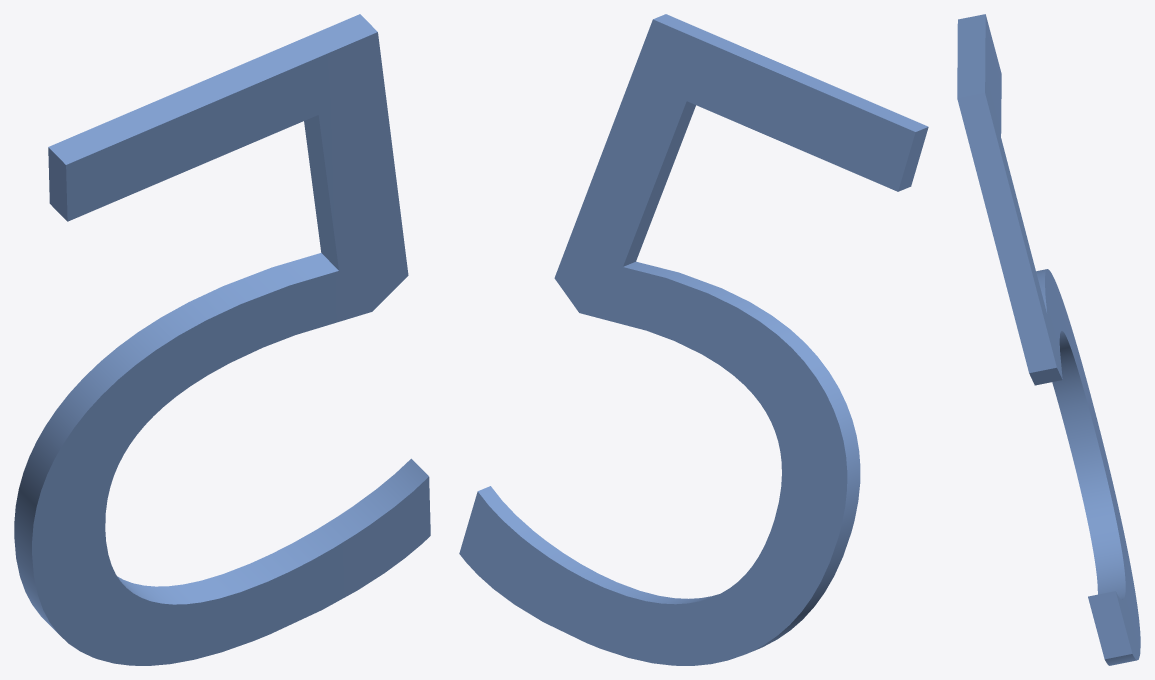
The model's file is New_Number_5.gltf.
The picture shows the model from 3 angles, left to right: view 1: azimuth 30°, elevation 25°; view 2: azimuth 150°, elevation 25°; view 3: azimuth 270°, elevation 25°; orthographic projection. The views are drawn at different scales.
Parts seen in each view (by area): view 1: Part 446; view 2: Part 446; view 3: Part 446.
Part boxes in pixels (x1=…): Part 446: x1=14, y1=14, x2=430, y2=665; Part 446: x1=459, y1=14, x2=928, y2=665; Part 446: x1=957, y1=14, x2=1140, y2=665.
Bounding box in the file's own units: 0.00392 × 0.0056 × 0.00164.
